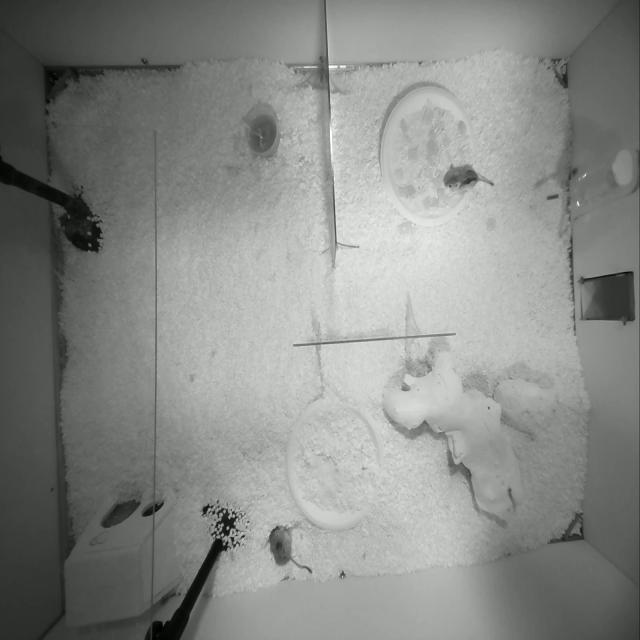pup_fluffy: (269, 526, 312, 573)
pup_v_stripe: (450, 169, 494, 189)
